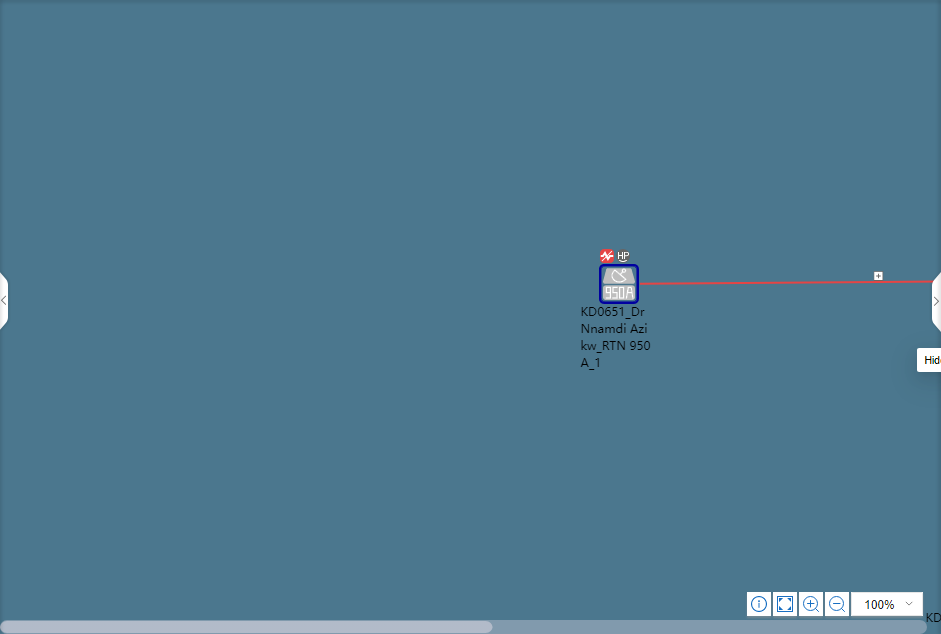Link_Red: (640, 279, 932, 286)
RTN_Gray: (600, 267, 636, 302)
